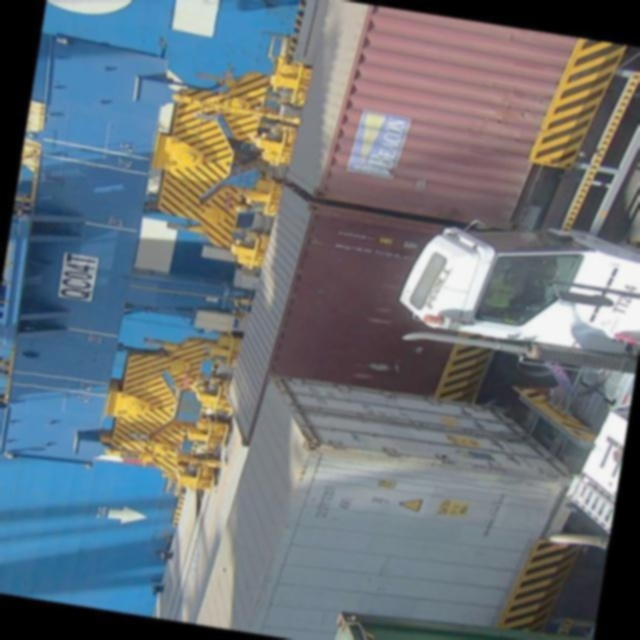Dent: (487, 88, 546, 144)
